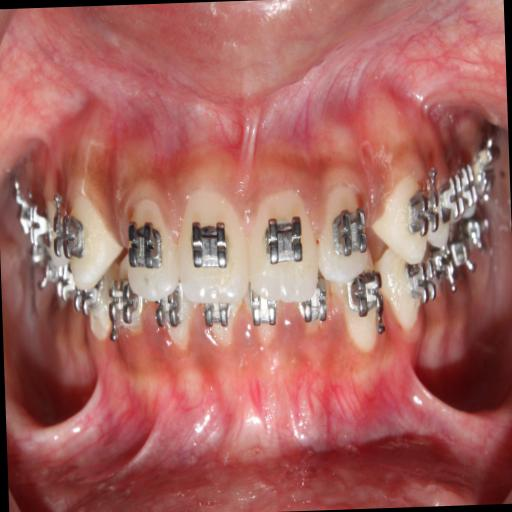correct_brace: (124, 216, 166, 280), (260, 210, 308, 265), (190, 218, 229, 274), (329, 204, 368, 258), (406, 181, 442, 238), (50, 212, 88, 263)
incorrect_brace: (121, 188, 177, 302), (319, 184, 374, 286)
